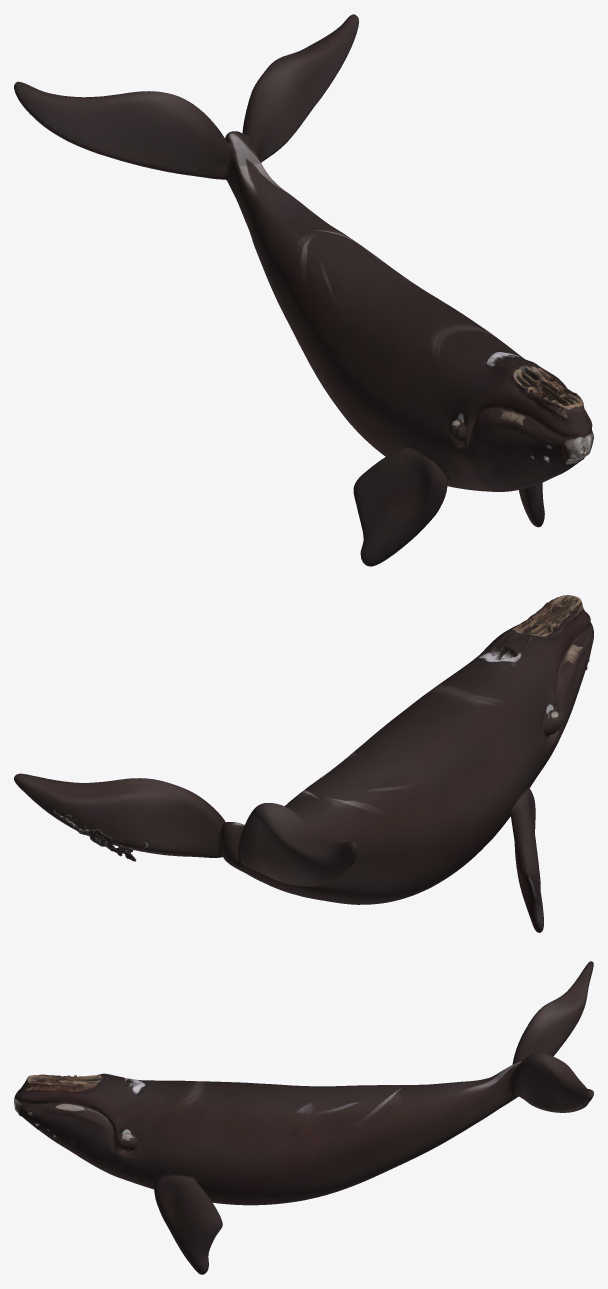
Rendered from RightWhale.glb.
3 renders of one model, top to bottom at view 1: azimuth 30°, elevation 25°; view 2: azimuth 150°, elevation 25°; view 3: azimuth 270°, elevation 25°, orthographic. The views are drawn at different scales.
Parts seen in each view (by area): view 1: tripo_node_3e51bb18-b504-47f6-b846-adf655c5fde0; view 2: tripo_node_3e51bb18-b504-47f6-b846-adf655c5fde0; view 3: tripo_node_3e51bb18-b504-47f6-b846-adf655c5fde0.
Boxes of the visible parts, x1,y1,x2,y2 form: tripo_node_3e51bb18-b504-47f6-b846-adf655c5fde0: (14, 14, 593, 566); tripo_node_3e51bb18-b504-47f6-b846-adf655c5fde0: (14, 595, 593, 932); tripo_node_3e51bb18-b504-47f6-b846-adf655c5fde0: (14, 961, 593, 1274).
Bounding box in the file's own units: 0.496 × 0.4257 × 1.
1 material, 1 textured.
